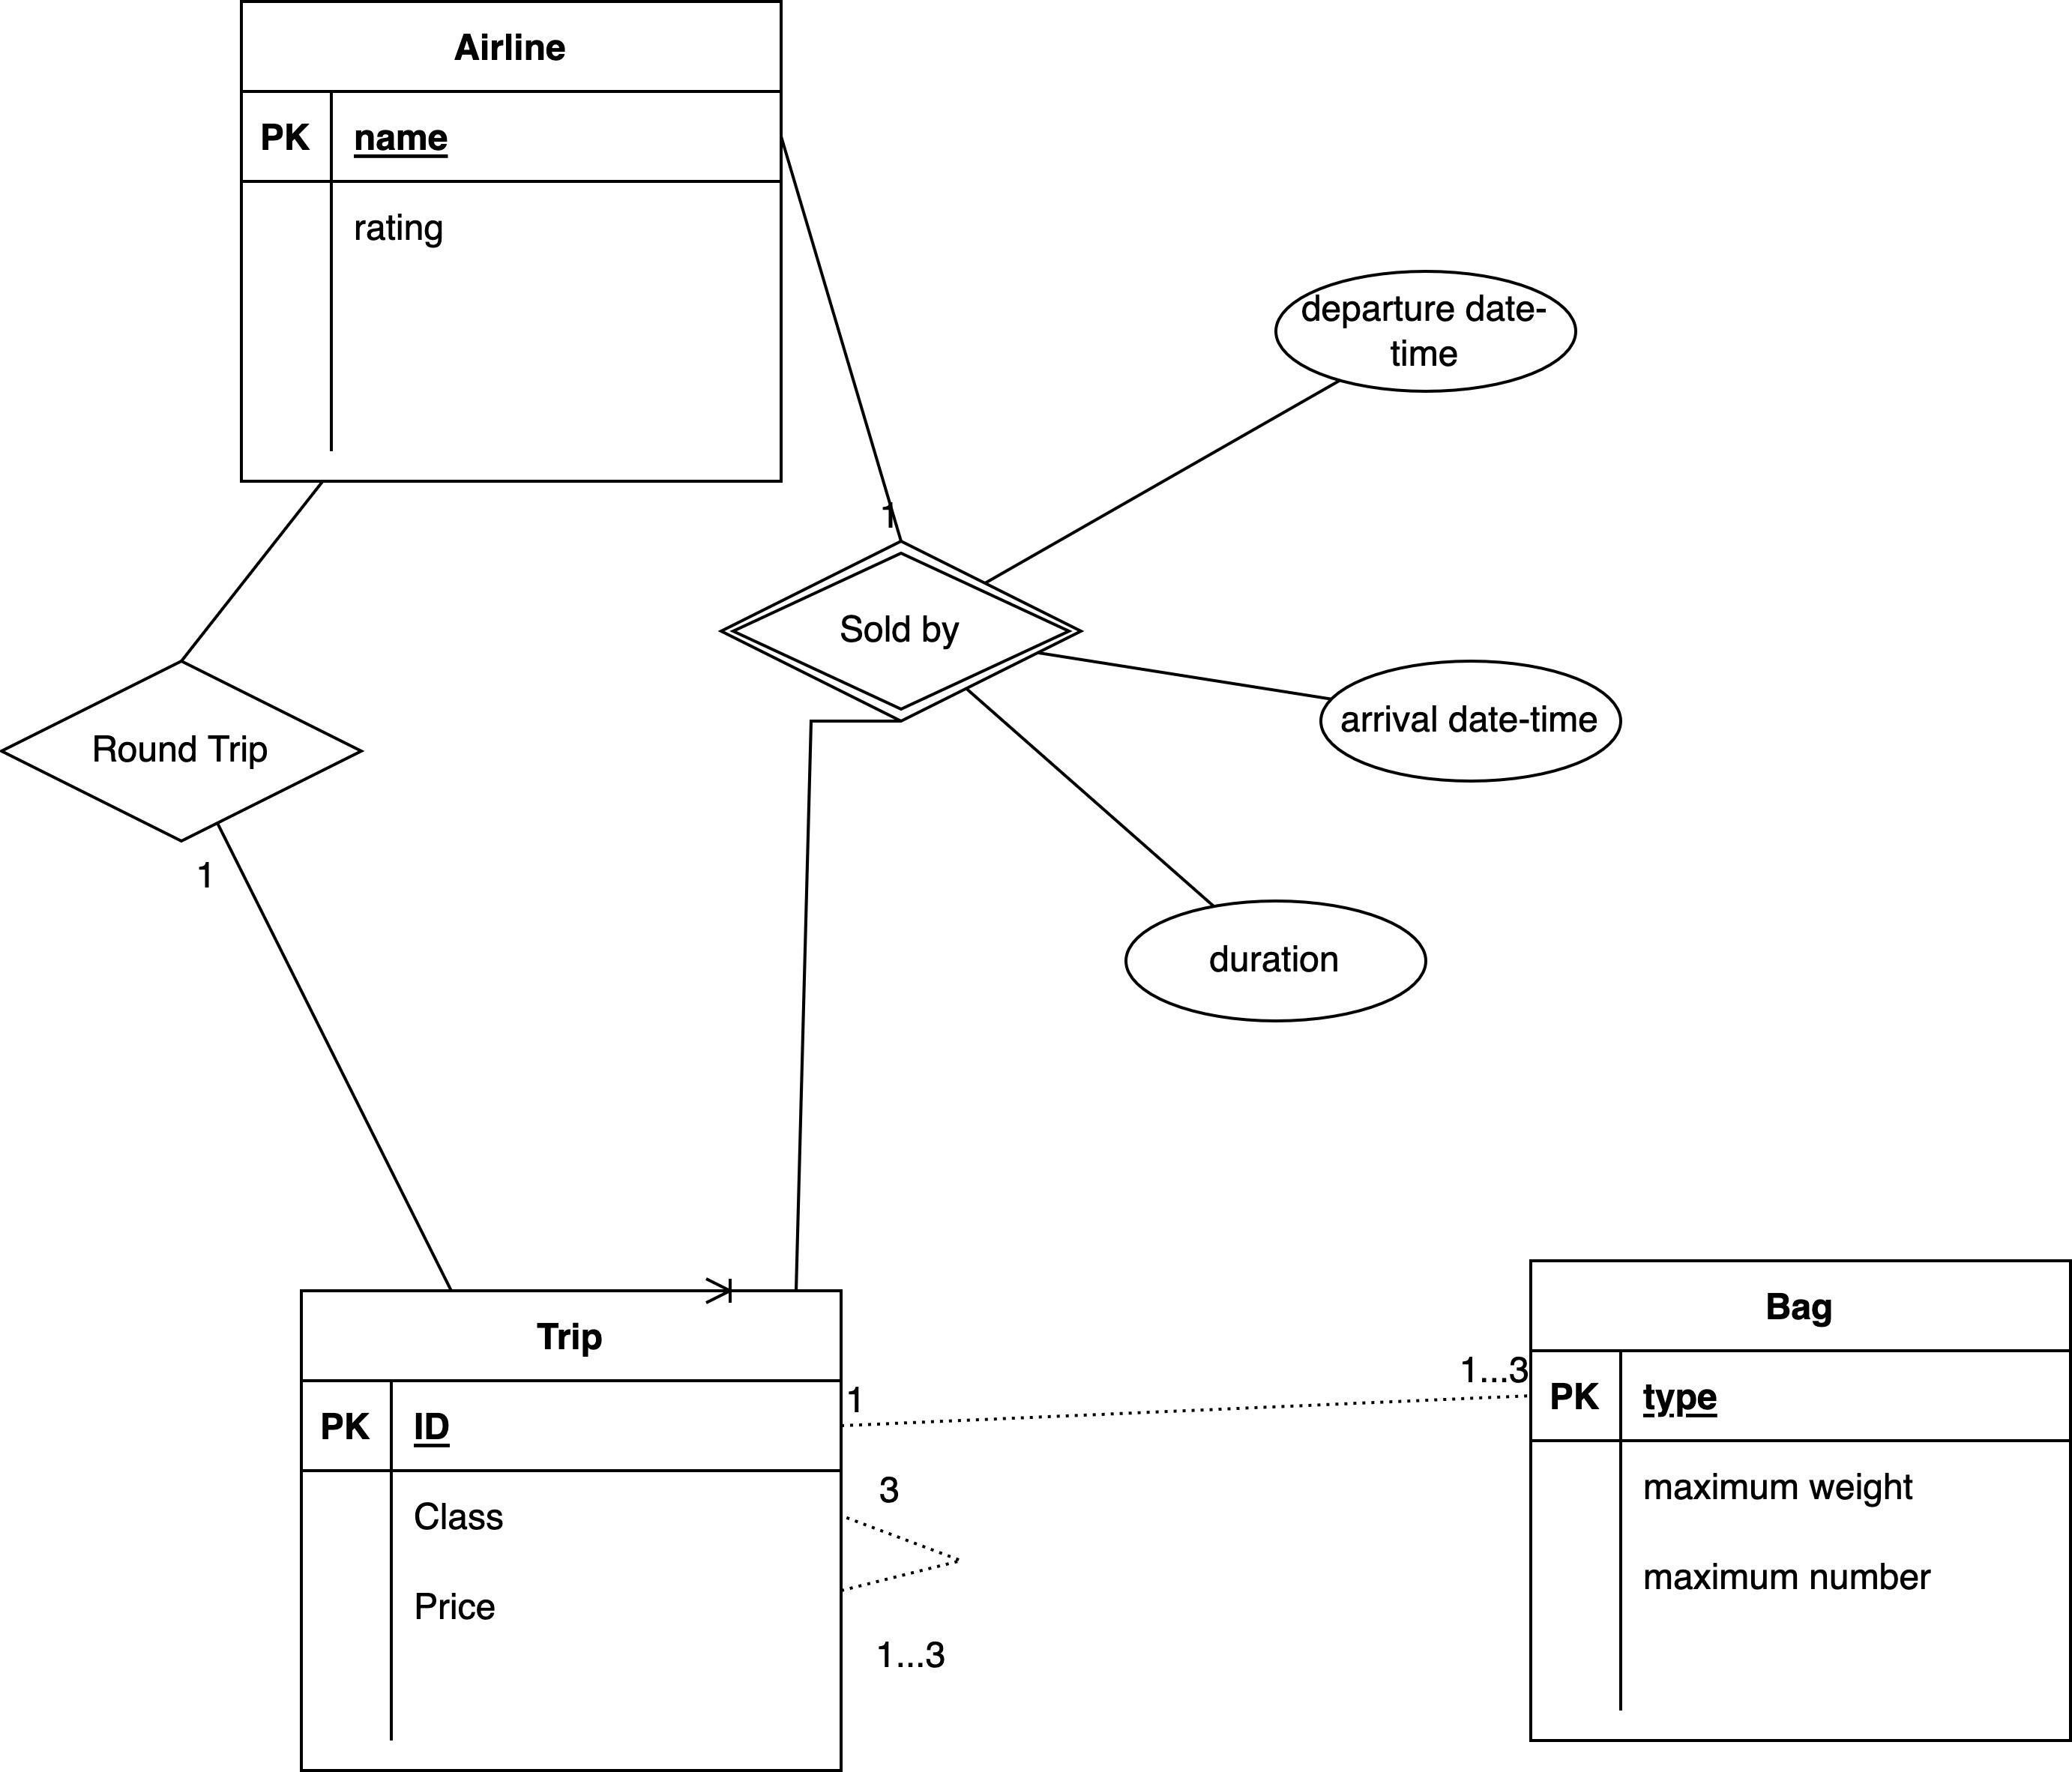attribute: (1121, 900, 1425, 1023), (1276, 269, 1573, 394), (1322, 661, 1622, 784)
entity: (1525, 1255, 2072, 1742), (235, 0, 782, 485), (295, 1289, 840, 1772)
relationship: (0, 656, 360, 835)
weakrelationship: (721, 538, 1079, 726)
